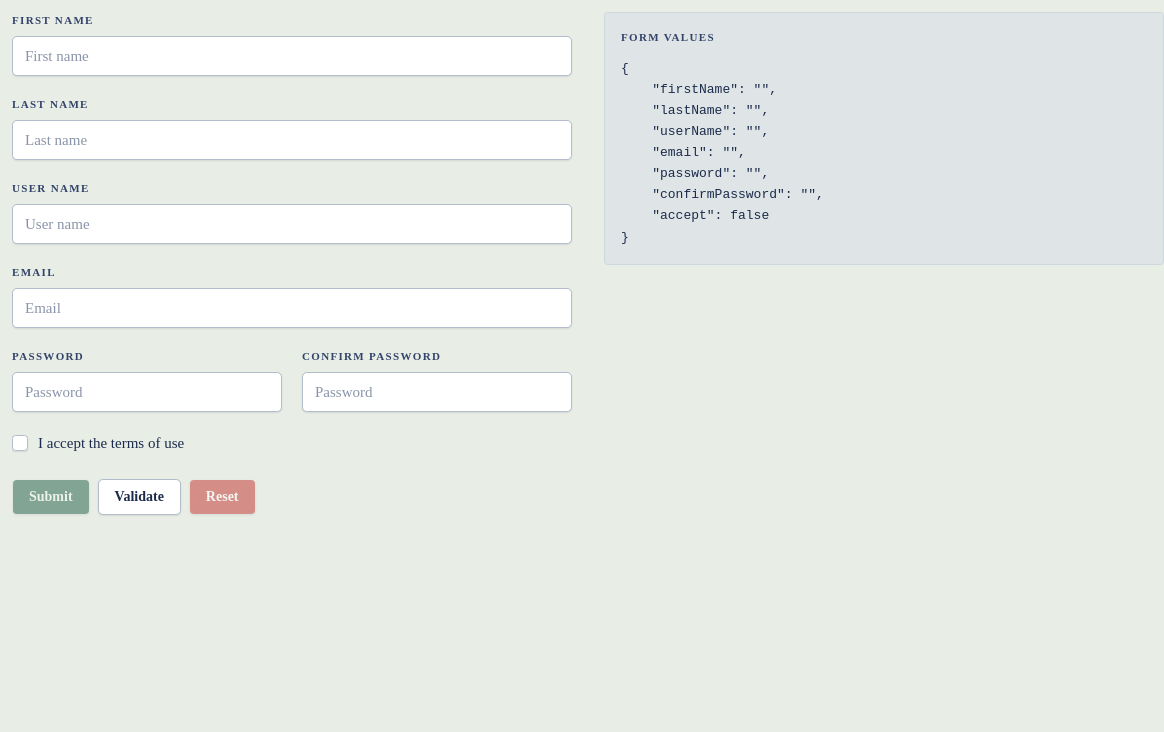
SignUpValidationForm › Validate button › reveals every rule the empty form breaks
Click the button "Validate": (139, 496) 98,478 -> 181,514
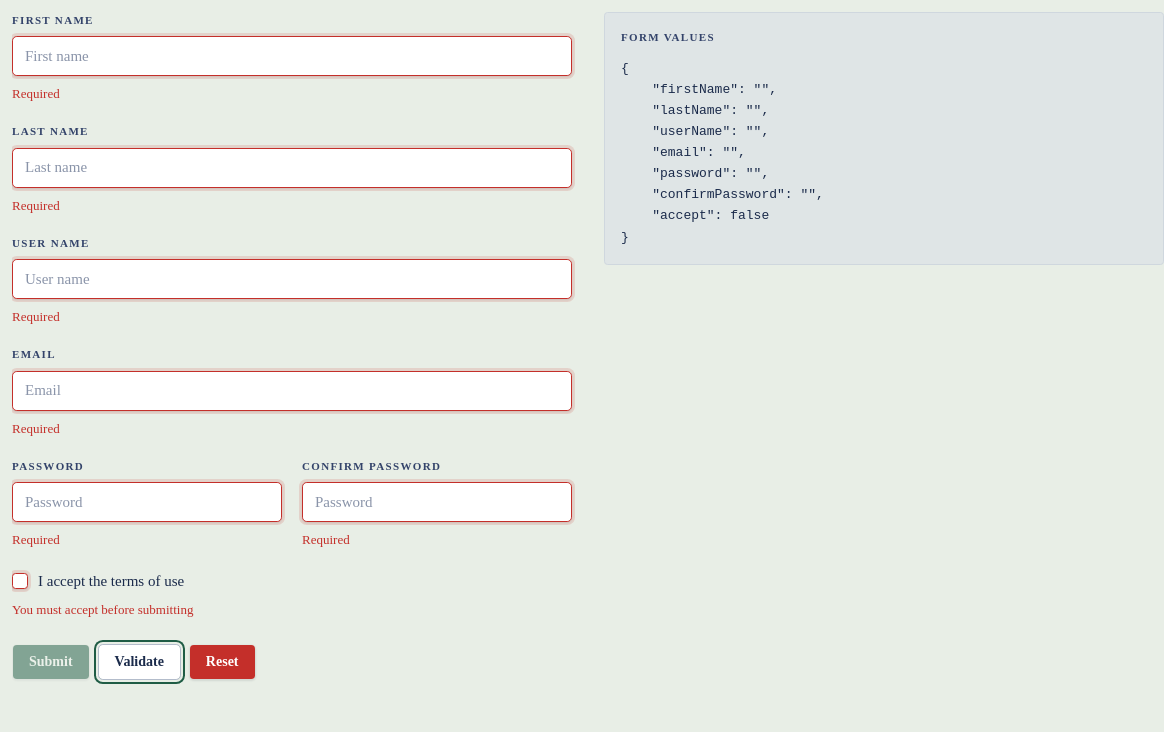
Now the text "You must accept before submitting" is shown, box 12,602 -> 193,617
